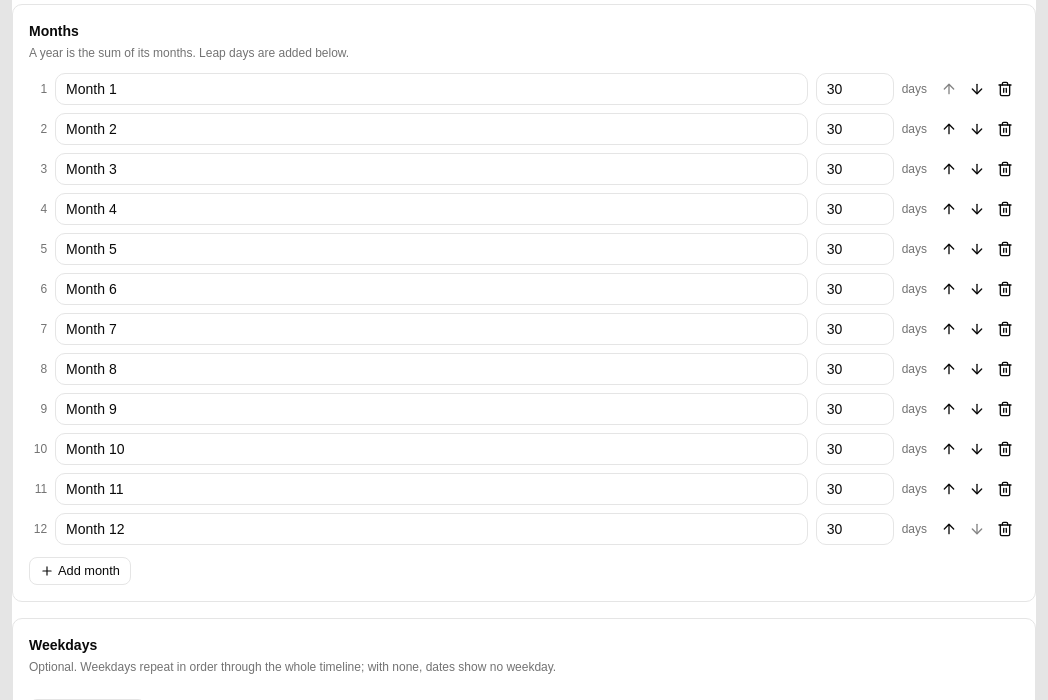
Test case: CalendarEditor › previews the unsaved definition after an edit (add a month)
Click the button "Add month".
click(80, 571)  # box x1=29 y1=557 x2=131 y2=585
(page scrolled)
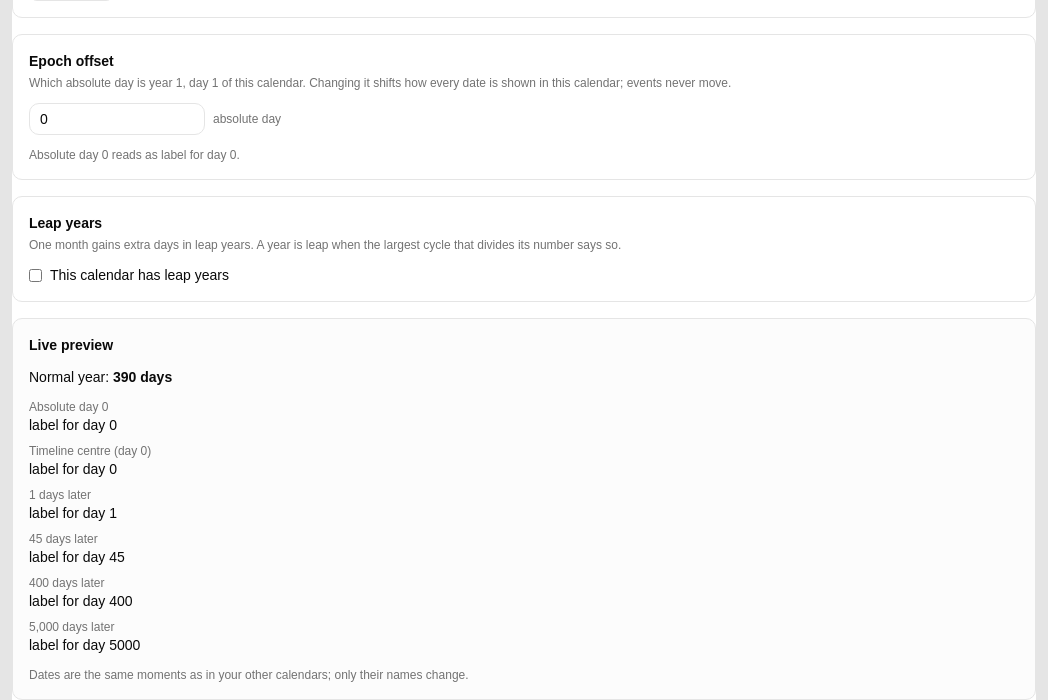
Now the element "preview" shows "Normal year: 390 days", box x1=12 y1=318 x2=1036 y2=699
